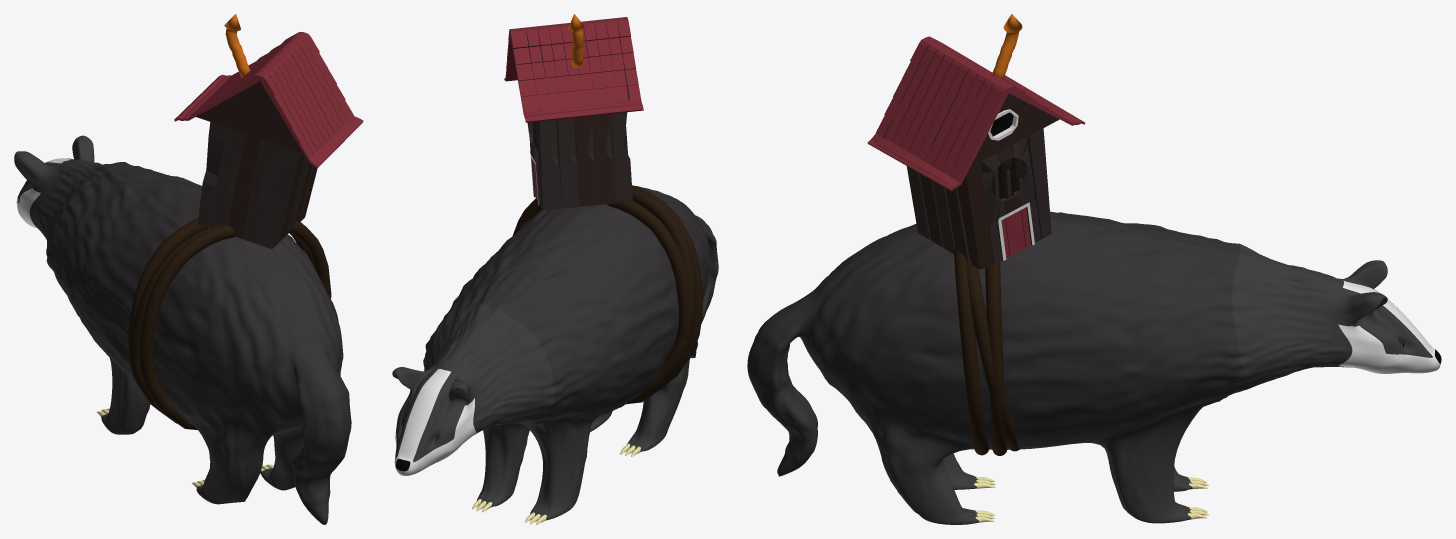
Rendered from Badger_highpoly.fbx.
The picture shows the model from 3 angles, left to right: view 1: azimuth 30°, elevation 25°; view 2: azimuth 150°, elevation 25°; view 3: azimuth 270°, elevation 25°; orthographic projection. The views are drawn at different scales.
Parts seen in each view (by area): view 1: Cube, Cylinder, rope.002; view 2: Cube, Cylinder, rope.002; view 3: Cube, Cylinder, rope.002.
Boxes of the visible parts, bbox=[...] form: Cube: bbox=[14, 135, 351, 524]; Cylinder: bbox=[174, 14, 363, 248]; rope.002: bbox=[128, 218, 331, 429]; Cube: bbox=[392, 186, 718, 524]; Cylinder: bbox=[504, 14, 643, 210]; rope.002: bbox=[512, 185, 703, 404]; Cube: bbox=[747, 211, 1441, 524]; Cylinder: bbox=[867, 14, 1084, 269]; rope.002: bbox=[954, 249, 1020, 455].
Size of the model in its own units: 0.3568 by 0.7207 by 0.9137.
